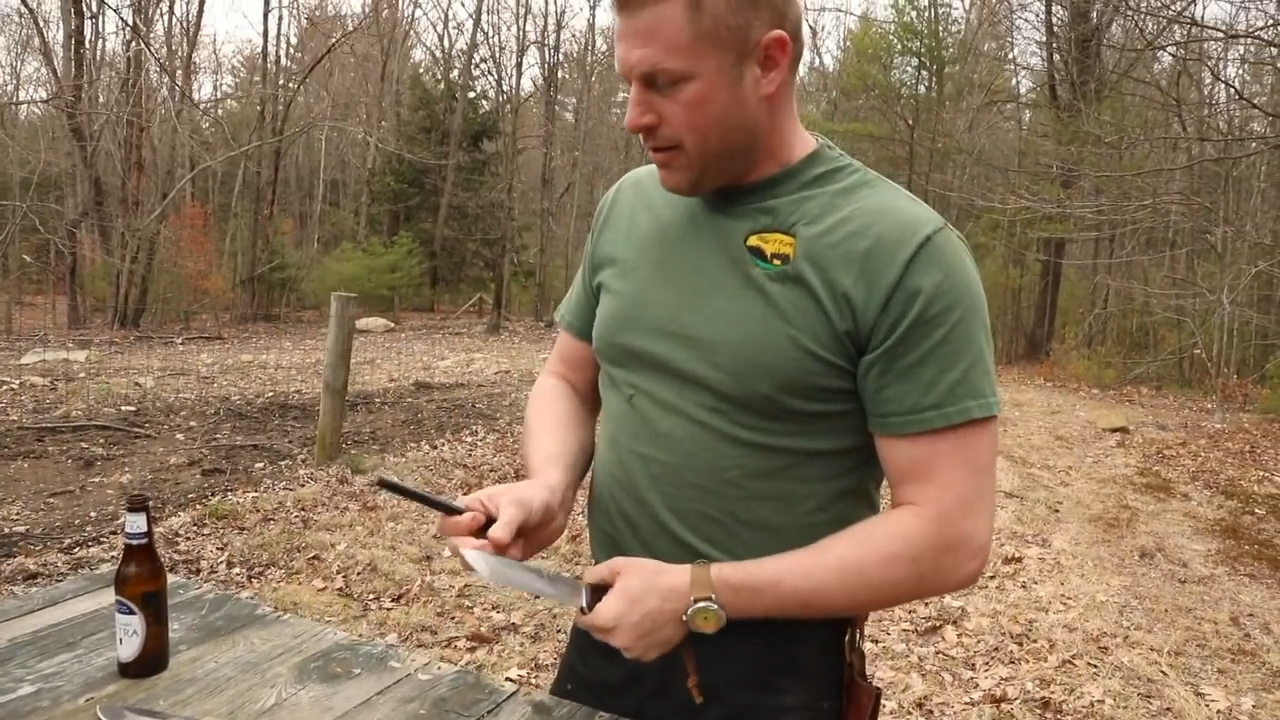knife: (443, 527, 673, 667)
